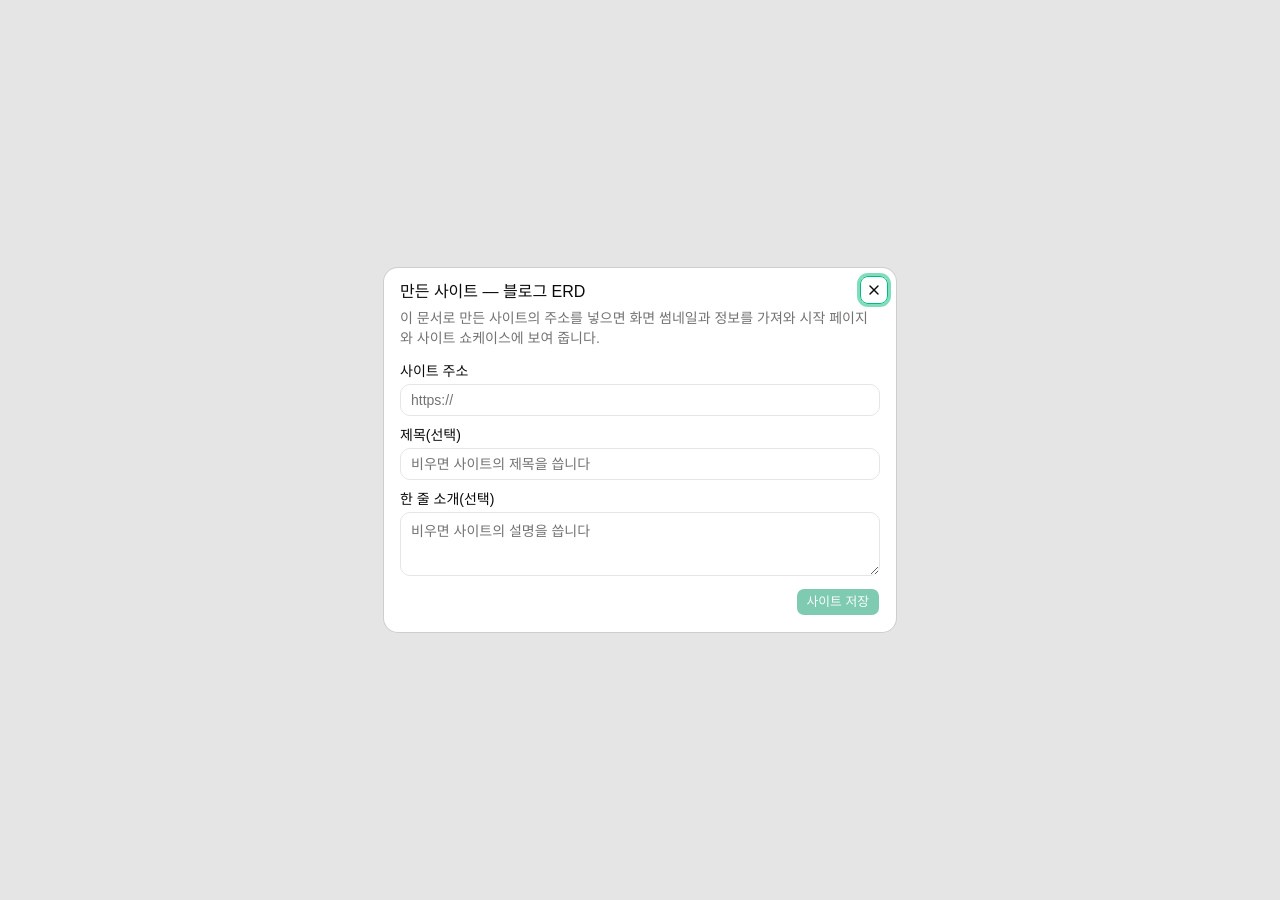
Test: 만든 사이트 칸 › http·https가 아닌 주소는 보내지 않고 칸에 안내한다
Type "ftp://example.com" into the field labelled "사이트 주소".
click(640, 400); type("ftp://example.com")  # box left=400, top=384, right=880, bottom=416
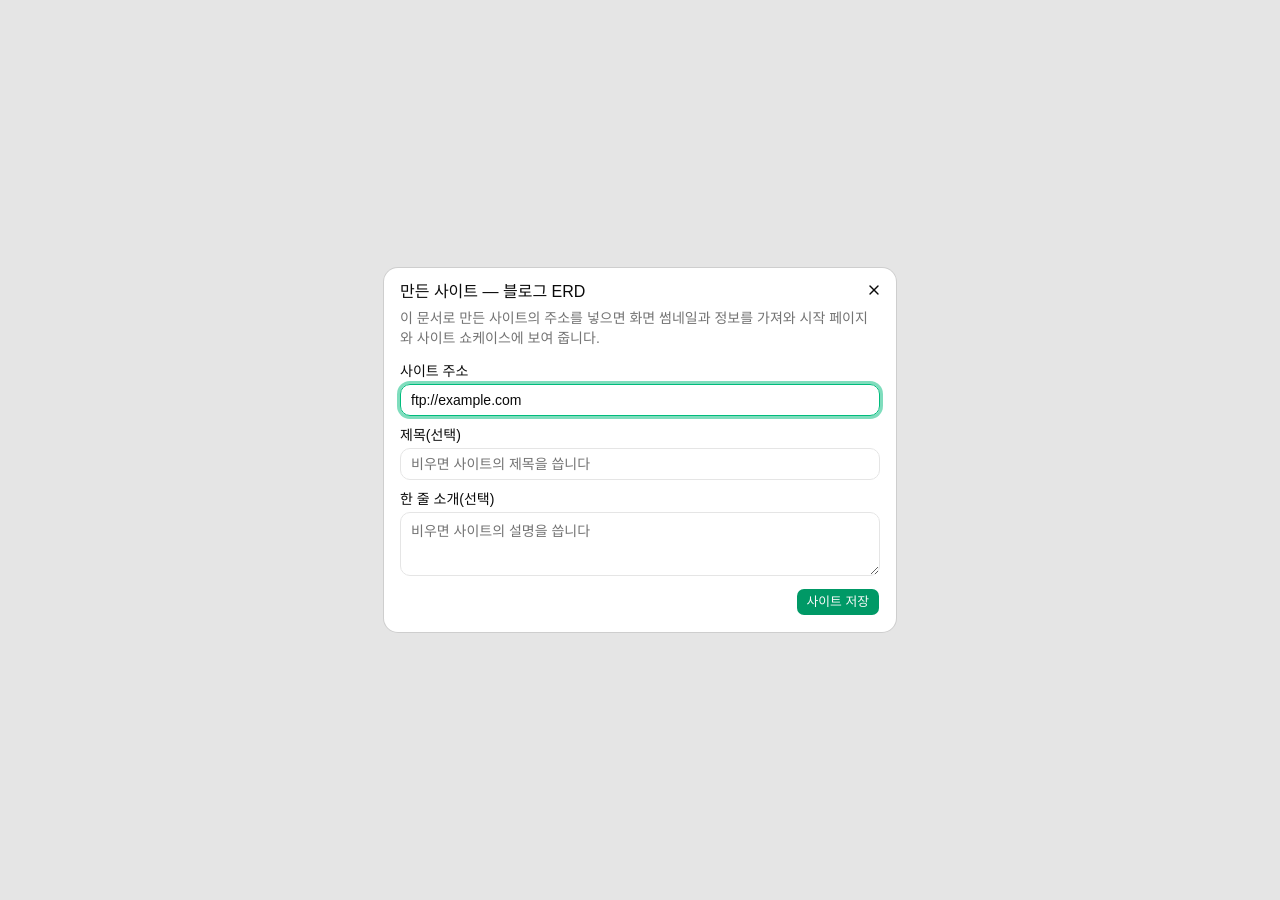
Click the button "사이트 저장".
click(838, 602)  # box left=796, top=588, right=880, bottom=616
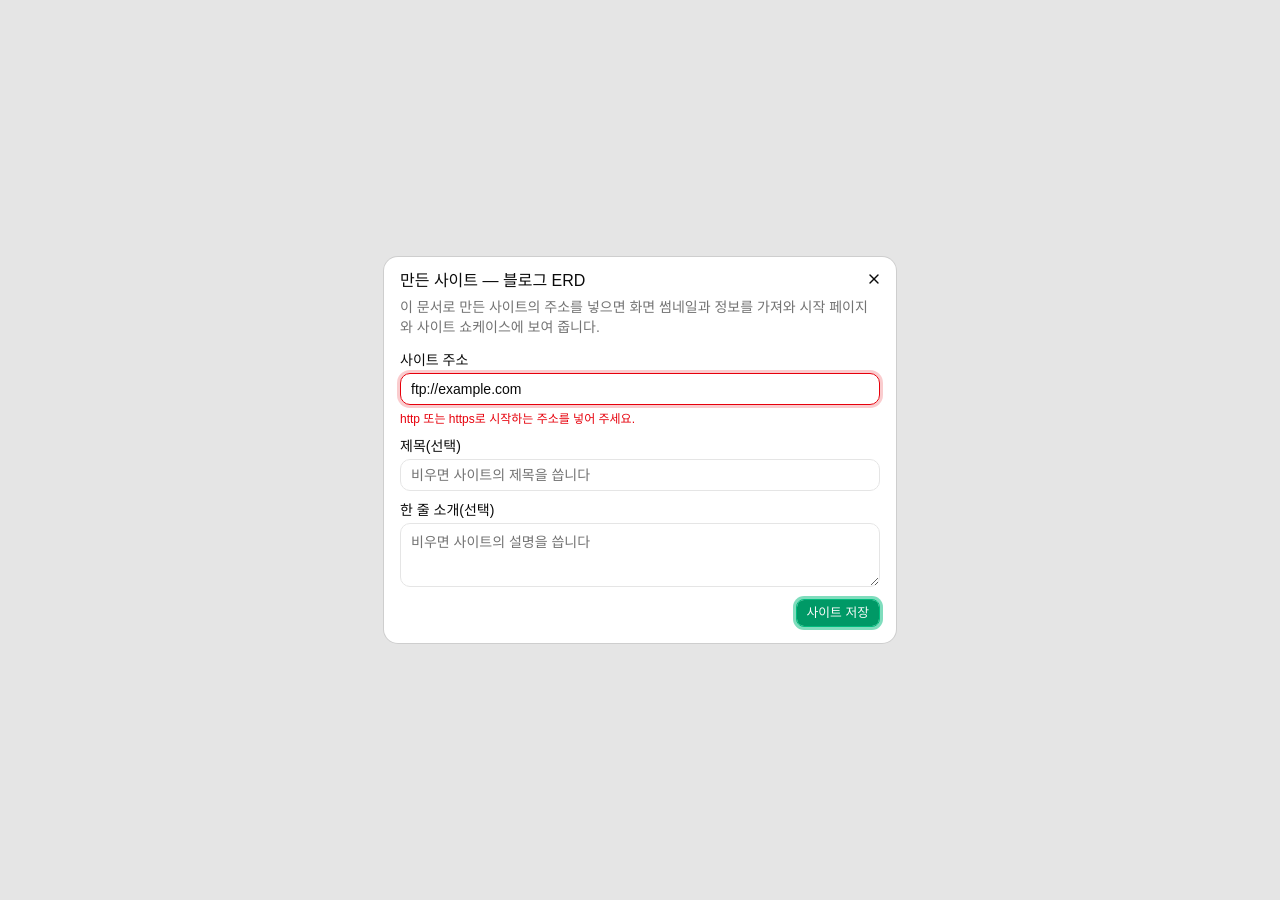
Result: the text "http 또는 https로 시작하는 주소를 넣어 주세요." is shown at left=400, top=412, right=635, bottom=426
